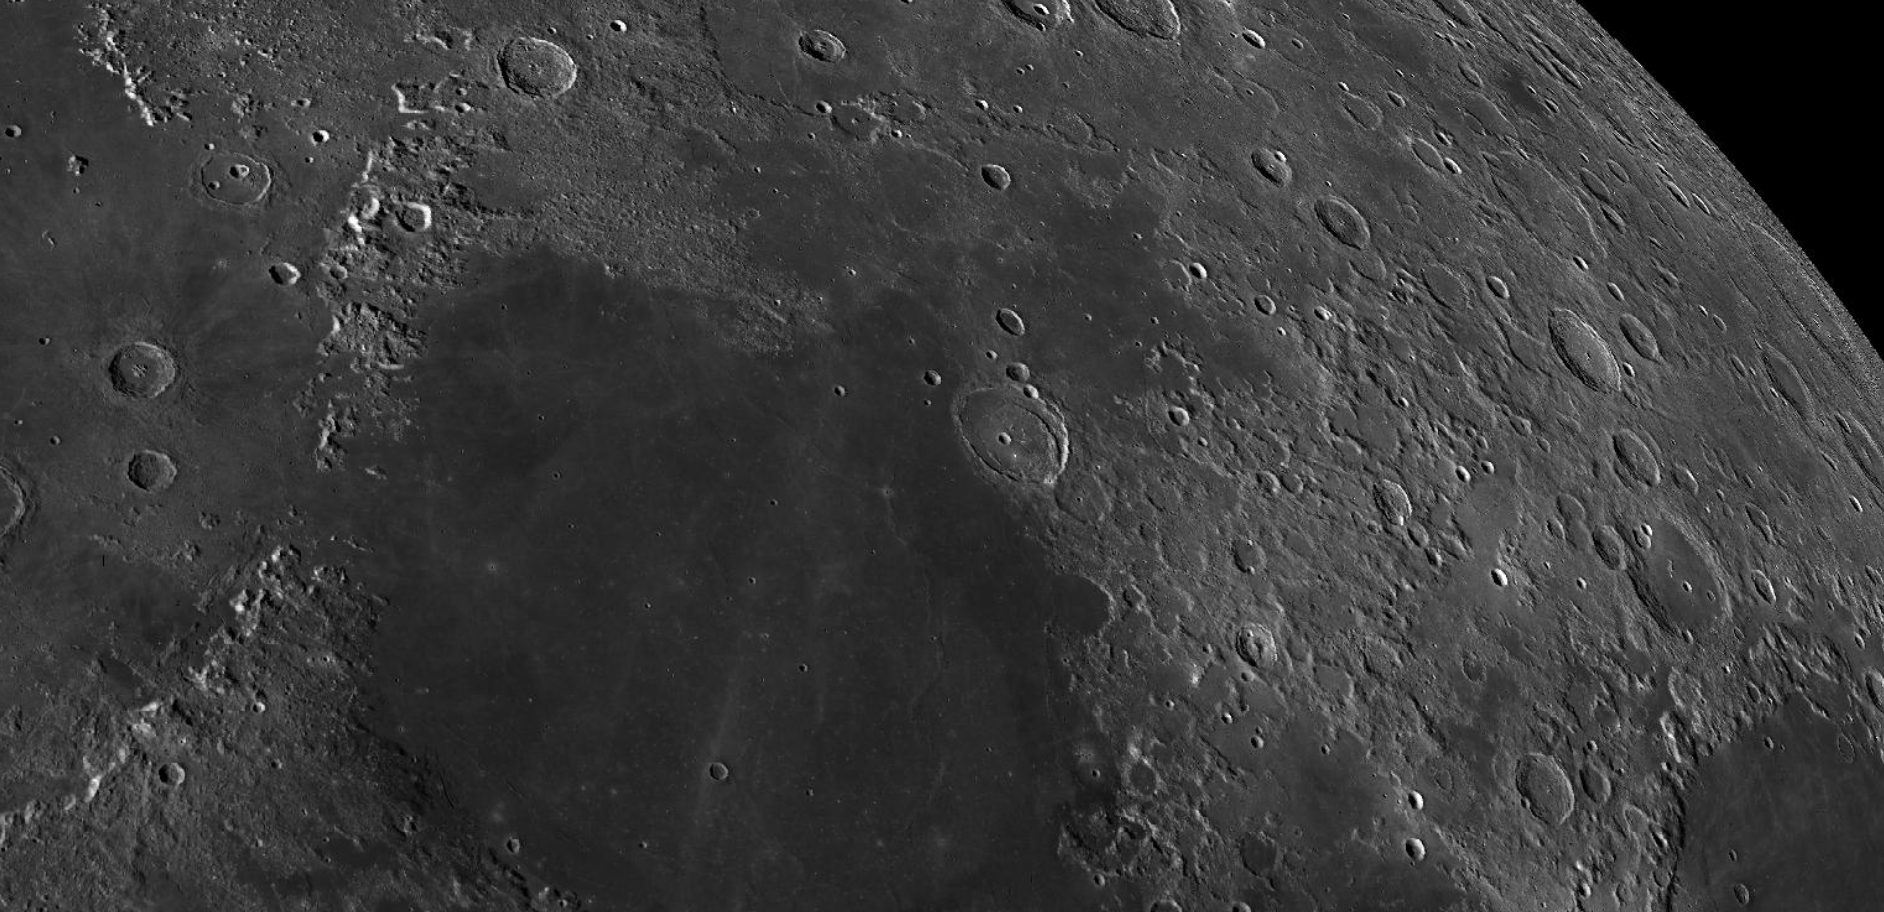crater: (928, 377, 1102, 513), (1534, 300, 1629, 430), (82, 324, 209, 413), (485, 30, 592, 129), (1508, 740, 1584, 852), (1753, 330, 1828, 433), (94, 440, 197, 503), (1305, 183, 1387, 256), (1220, 607, 1294, 684), (1328, 81, 1390, 151), (1226, 137, 1302, 192), (786, 22, 861, 77), (699, 741, 758, 810), (1214, 530, 1278, 589), (977, 302, 1057, 348), (825, 100, 890, 154), (388, 193, 449, 240), (747, 487, 797, 527), (1481, 558, 1512, 595), (739, 561, 769, 595)
